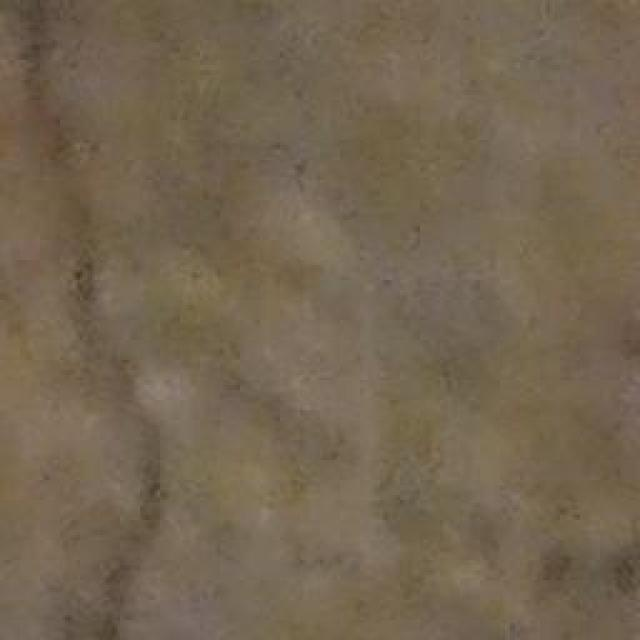Longitudinal: (20, 0, 170, 633)
